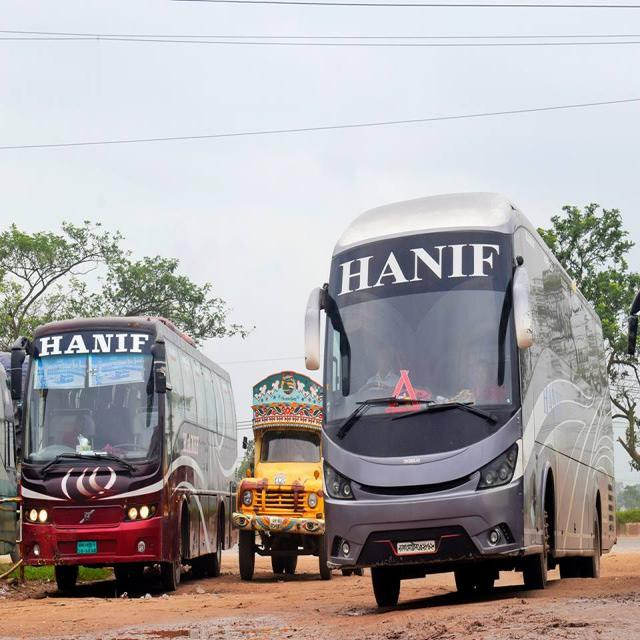bus: (302, 189, 618, 611), (10, 314, 239, 596)
